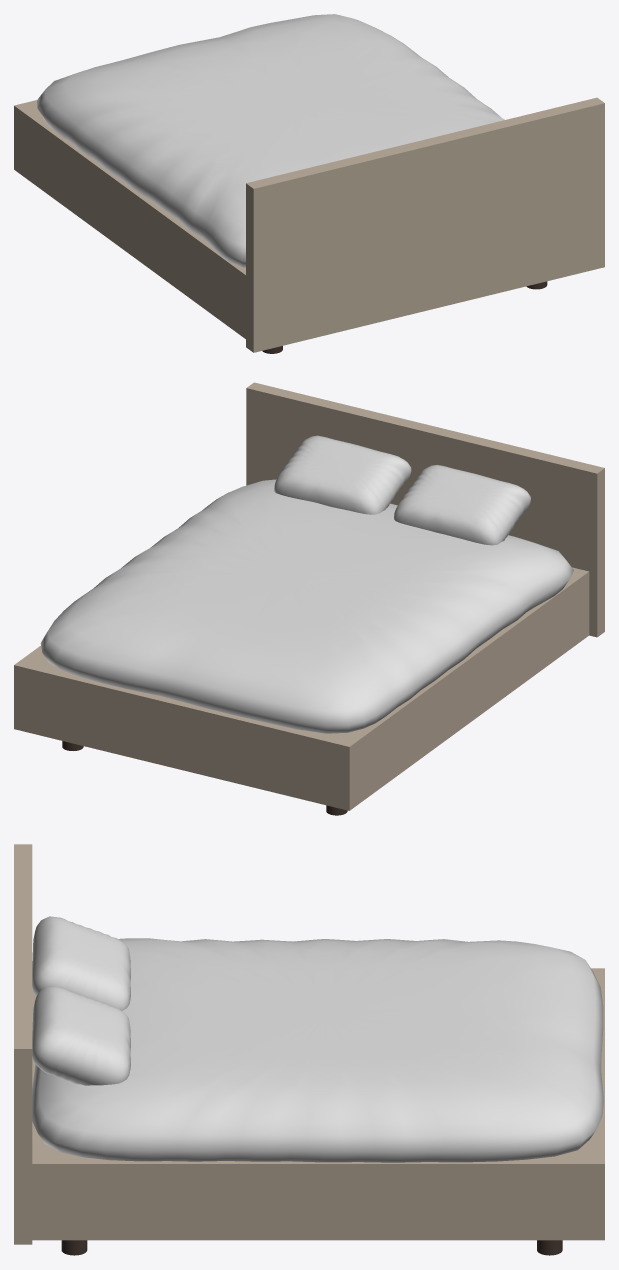
Rendered from Lit2_3.fbx.
The picture shows the model from 3 angles, top to bottom: view 1: azimuth 30°, elevation 25°; view 2: azimuth 150°, elevation 25°; view 3: azimuth 270°, elevation 25°; orthographic projection. The views are drawn at different scales.
Parts seen in each view (by area): view 1: pCube2137, pCylinder1514, pCube2136; view 2: pCylinder1514, pCube2136, pCube2137, pCylinder1518, pCylinder1513; view 3: pCylinder1514, pCube2136, pCylinder1513, pCube2137, pCylinder1518, pCylinder1515.
Boxes of the visible parts, x1,y1,x2,y2 form: pCube2137: [246, 97, 604, 352]; pCylinder1514: [37, 14, 504, 267]; pCube2136: [14, 100, 245, 338]; pCylinder1514: [40, 479, 573, 733]; pCube2136: [14, 567, 589, 810]; pCube2137: [246, 382, 604, 637]; pCylinder1518: [394, 465, 530, 545]; pCylinder1513: [274, 435, 411, 514]; pCylinder1514: [32, 938, 603, 1162]; pCube2136: [32, 968, 604, 1240]; pCylinder1513: [32, 986, 130, 1085]; pCube2137: [14, 844, 32, 1244]; pCylinder1518: [32, 916, 130, 1010]; pCylinder1515: [61, 1240, 562, 1255].
Size of the model in its own units: 117 by 60.53 by 143.
